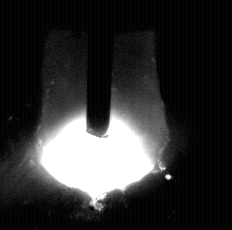arame: (87, 0, 111, 137)
poca: (35, 0, 168, 230)
